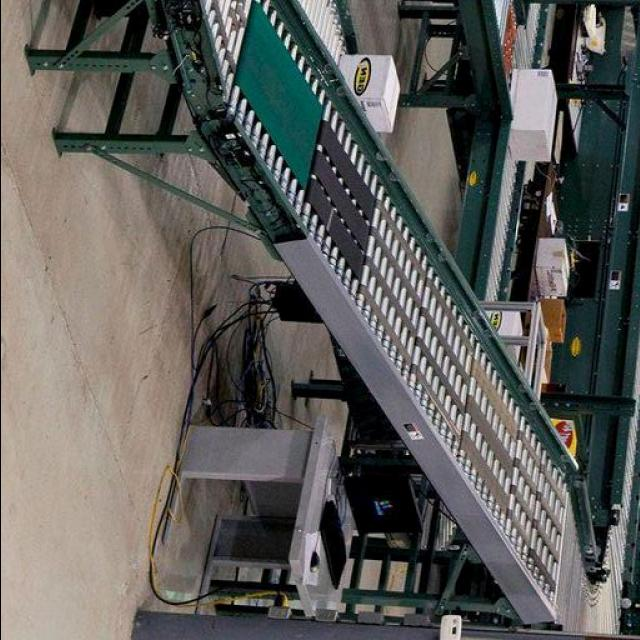conveyor: (194, 0, 640, 639)
